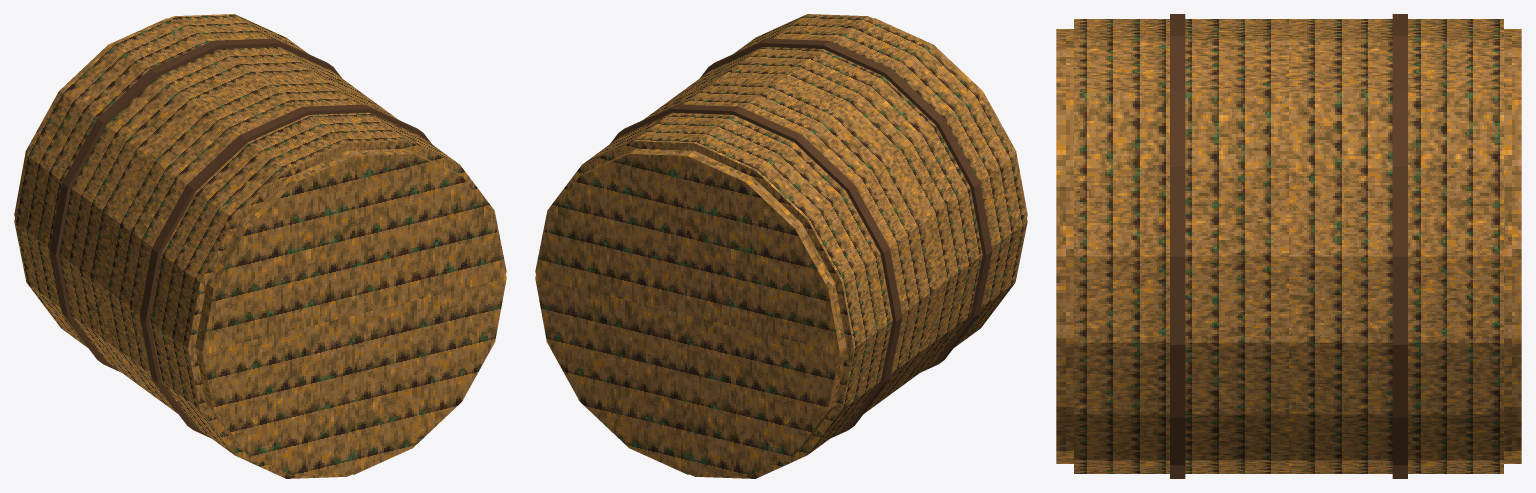
File: paca.glb
The picture shows the model from 3 angles, left to right: view 1: azimuth 30°, elevation 25°; view 2: azimuth 150°, elevation 25°; view 3: azimuth 270°, elevation 25°; orthographic projection. The views are drawn at different scales.
Parts seen in each view (by area): view 1: Cylinder.001, Cylinder, Cylinder.003, Cylinder.004, Cylinder.002; view 2: Cylinder.002, Cylinder, Cylinder.004, Cylinder.003, Cylinder.001; view 3: Cylinder, Cylinder.001, Cylinder.002, Cylinder.003, Cylinder.004.
Part boxes in pixels (<box>): Cylinder.001: <box>195,148,506,476</box>; Cylinder: <box>14,14,506,478</box>; Cylinder.003: <box>139,104,431,437</box>; Cylinder.004: <box>49,38,341,372</box>; Cylinder.002: <box>14,18,168,217</box>; Cylinder.002: <box>535,148,846,476</box>; Cylinder: <box>535,14,1027,478</box>; Cylinder.004: <box>610,104,902,437</box>; Cylinder.003: <box>700,38,992,372</box>; Cylinder.001: <box>873,18,1027,217</box>; Cylinder: <box>1074,19,1503,473</box>; Cylinder.001: <box>1056,29,1073,463</box>; Cylinder.002: <box>1504,29,1521,463</box>; Cylinder.003: <box>1170,14,1185,478</box>; Cylinder.004: <box>1392,14,1407,478</box>.
Bounding box in the file's own units: 0.92 × 0.92 × 0.92.
2 materials, 1 textured.
